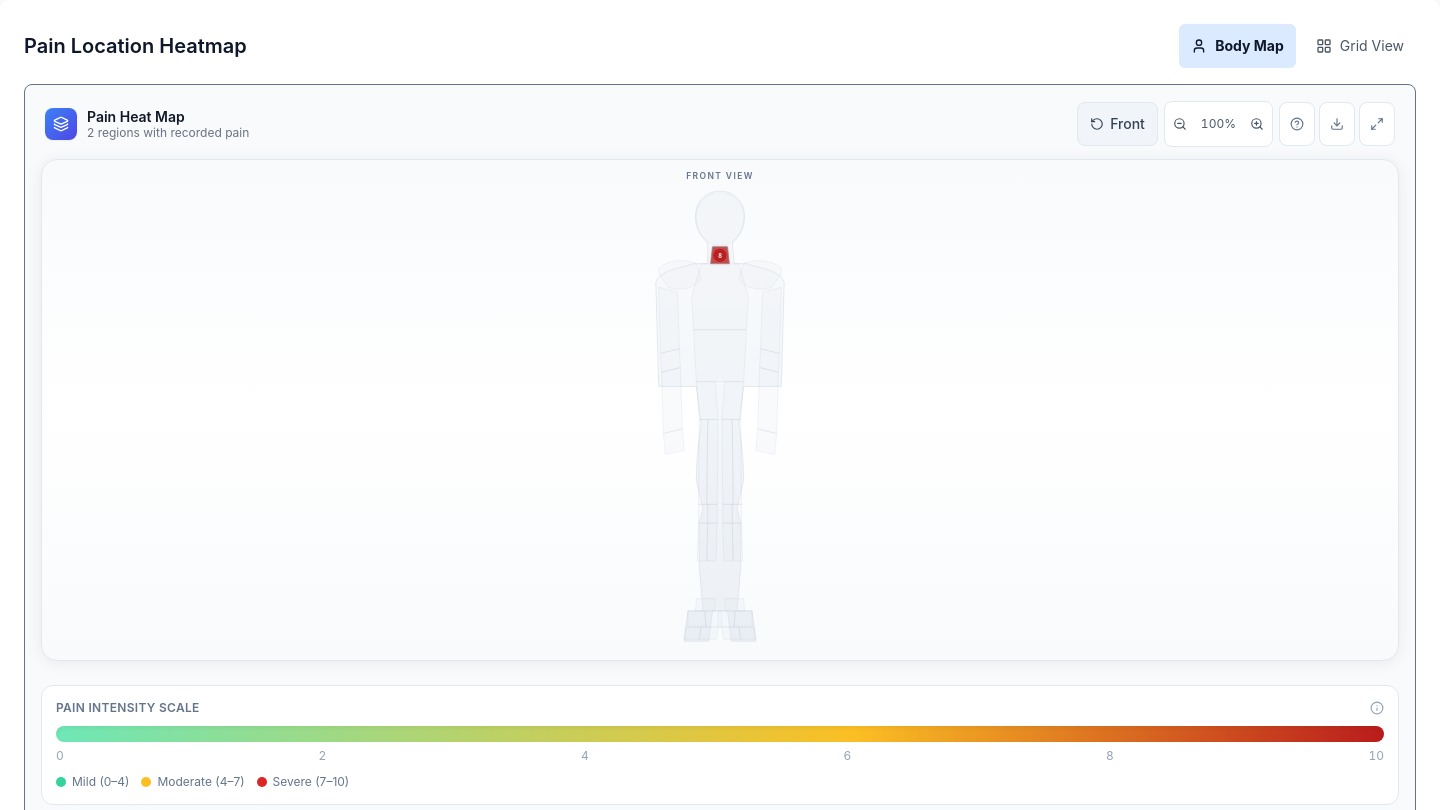
Scenario: LocationHeatmap › renders and can switch to Grid View
The width and height of the screenshot is (1440, 810).
Expected: the heading "Pain Location Heatmap" is shown, [24,32,247,60]
Click the button "Grid View" at (1360, 46), box [1304,24,1416,68]
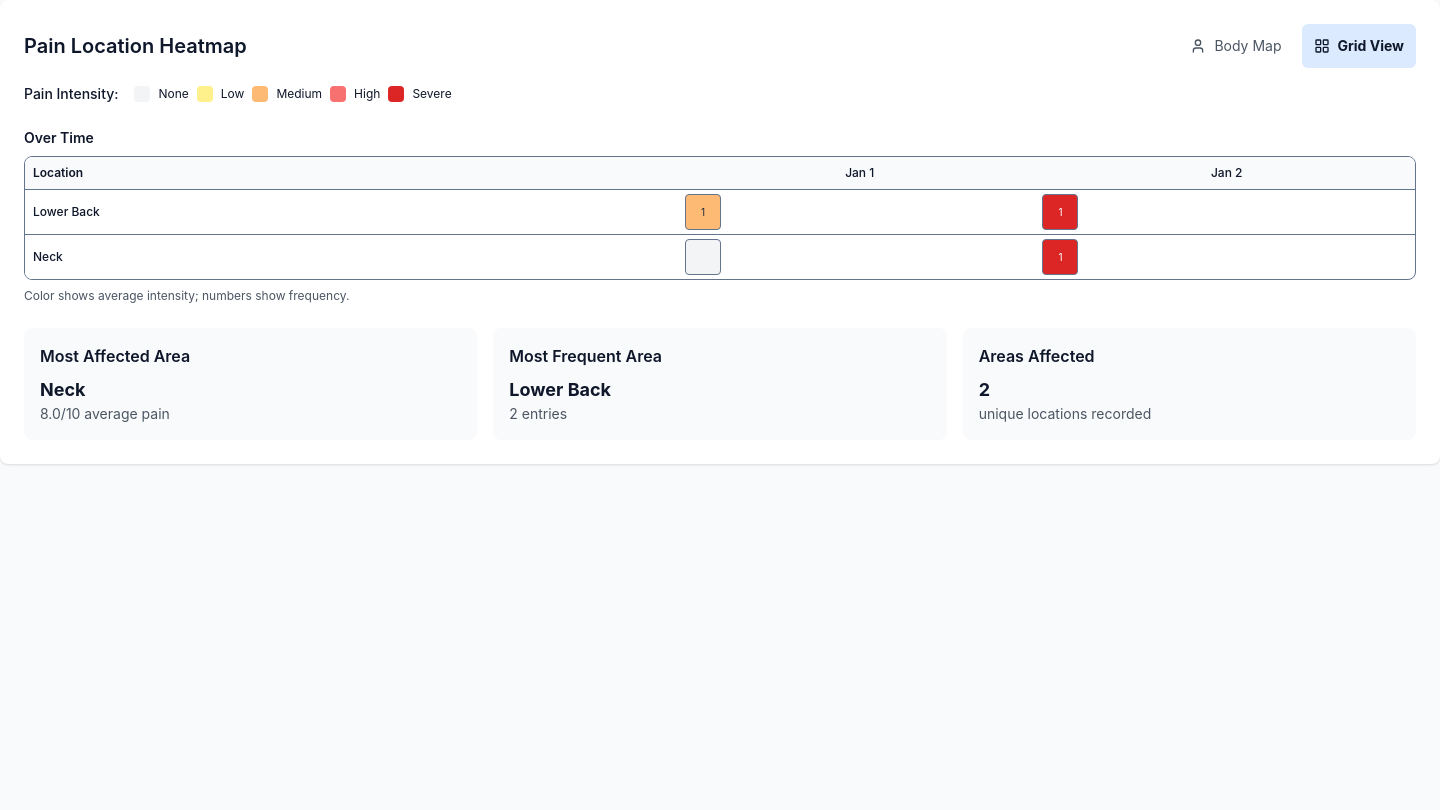
Expected: the heading "Over Time" is shown, [24,129,94,146]
Expected: the text "Pain Intensity:" is shown, [24,84,118,104]
